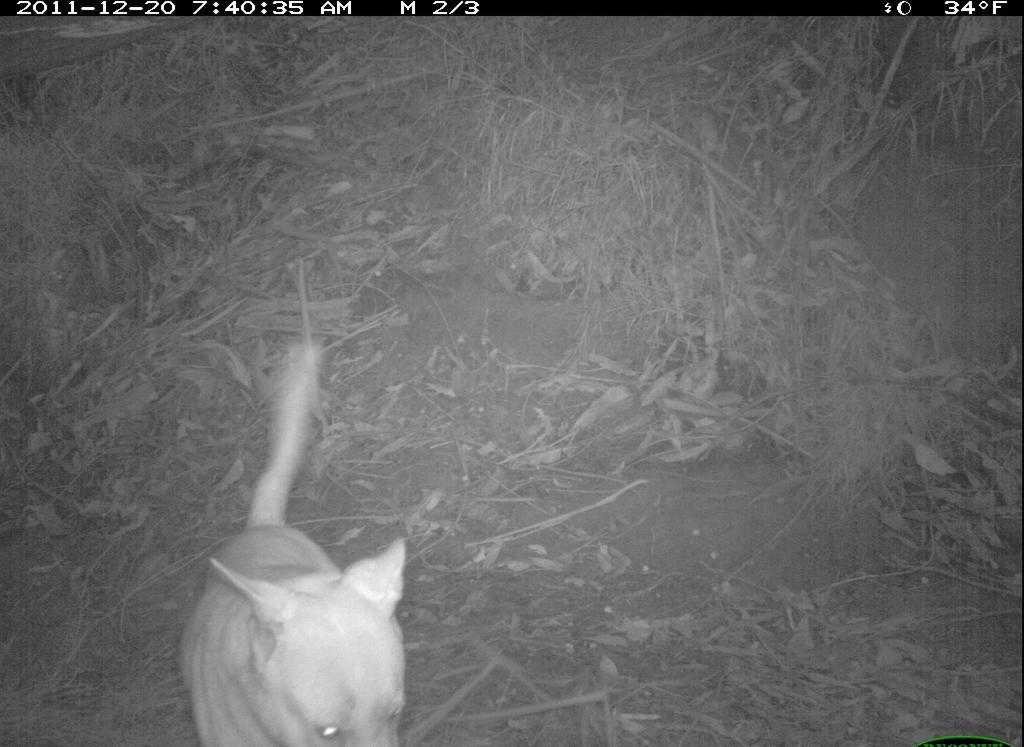dog: (166, 310, 455, 745)
